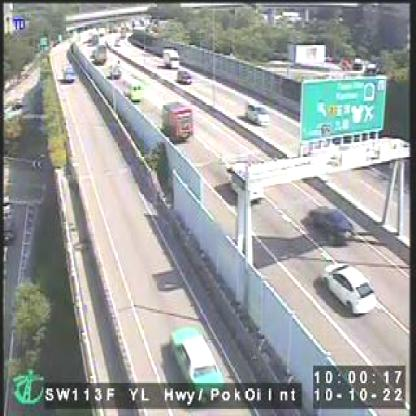Car: (167, 323, 226, 382), (320, 266, 377, 315), (308, 207, 352, 244), (245, 100, 268, 124), (126, 77, 143, 100), (107, 61, 123, 80), (178, 67, 194, 82), (64, 65, 76, 84)
Truck: (162, 99, 193, 138), (162, 47, 180, 67)
